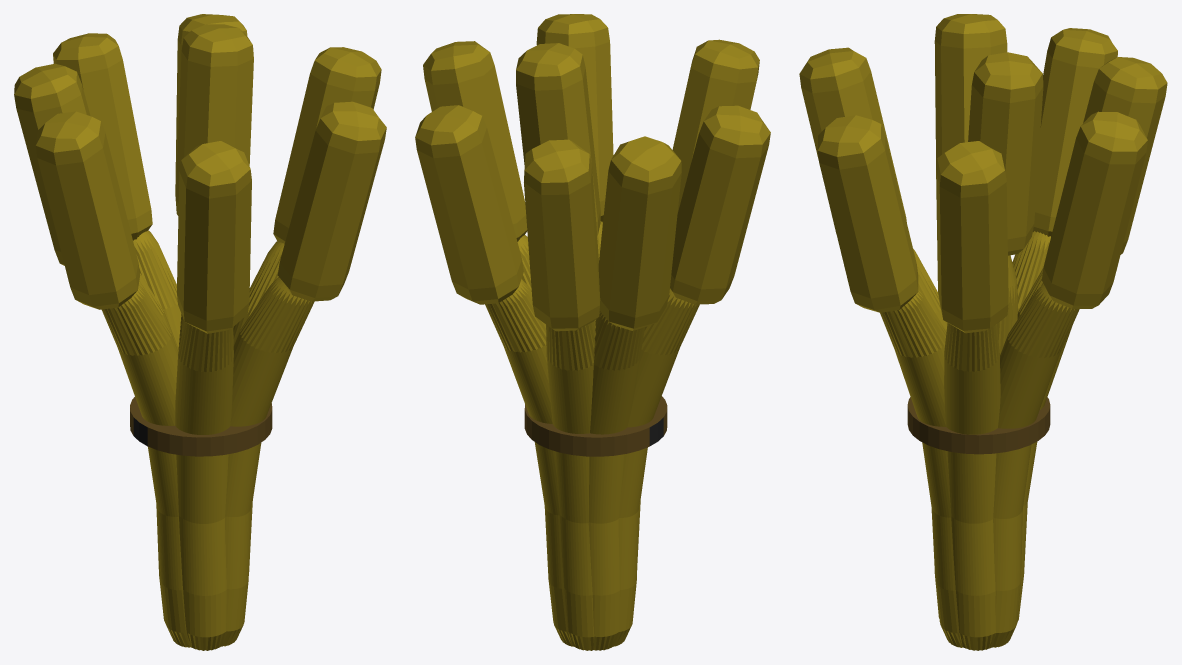
Rendered from w_grown.fbx.
3 views of the same model, side by side, from view 1: azimuth 30°, elevation 25°; view 2: azimuth 150°, elevation 25°; view 3: azimuth 270°, elevation 25° (orthographic).
Parts seen in each view (by area): view 1: Barley.004, Barley.007, Barley.013, Barley.011, Barley.005, Barley.009, Barley.012, Cylinder, Barley.010; view 2: Barley.012, Barley.011, Barley.010, Barley.013, Barley.009, Barley.005, Barley.004, Barley.007, Cylinder; view 3: Barley.009, Barley.010, Barley.007, Barley.005, Barley.012, Barley.013, Barley.011, Barley.004, Cylinder.
Boxes of the visible parts, left/top/right/bottom form: Barley.004: left=175, top=141, right=251, bottom=650; Barley.007: left=221, top=101, right=386, bottom=646; Barley.013: left=35, top=111, right=191, bottom=647; Barley.011: left=53, top=33, right=181, bottom=348; Barley.005: left=175, top=24, right=253, bottom=349; Barley.009: left=233, top=47, right=381, bottom=571; Barley.012: left=14, top=63, right=178, bottom=622; Cylinder: left=130, top=397, right=272, bottom=456; Barley.010: left=175, top=14, right=247, bottom=196; Barley.012: left=588, top=136, right=681, bottom=650; Barley.011: left=524, top=139, right=600, bottom=650; Barley.010: left=415, top=105, right=575, bottom=646; Barley.013: left=611, top=105, right=770, bottom=646; Barley.009: left=423, top=41, right=531, bottom=290; Barley.005: left=516, top=43, right=600, bottom=320; Barley.004: left=637, top=39, right=759, bottom=562; Barley.007: left=536, top=14, right=613, bottom=259; Cylinder: left=524, top=396, right=667, bottom=456; Barley.009: left=936, top=141, right=1008, bottom=650; Barley.010: left=990, top=111, right=1147, bottom=647; Barley.007: left=817, top=115, right=965, bottom=647; Barley.005: left=968, top=52, right=1043, bottom=354; Barley.012: left=1012, top=28, right=1117, bottom=311; Barley.013: left=934, top=14, right=1007, bottom=167; Barley.011: left=1017, top=57, right=1167, bottom=621; Barley.004: left=799, top=47, right=947, bottom=618; Cylinder: left=907, top=397, right=1050, bottom=454.
Bounding box in the file's own units: 98.48 × 166 × 92.99.
